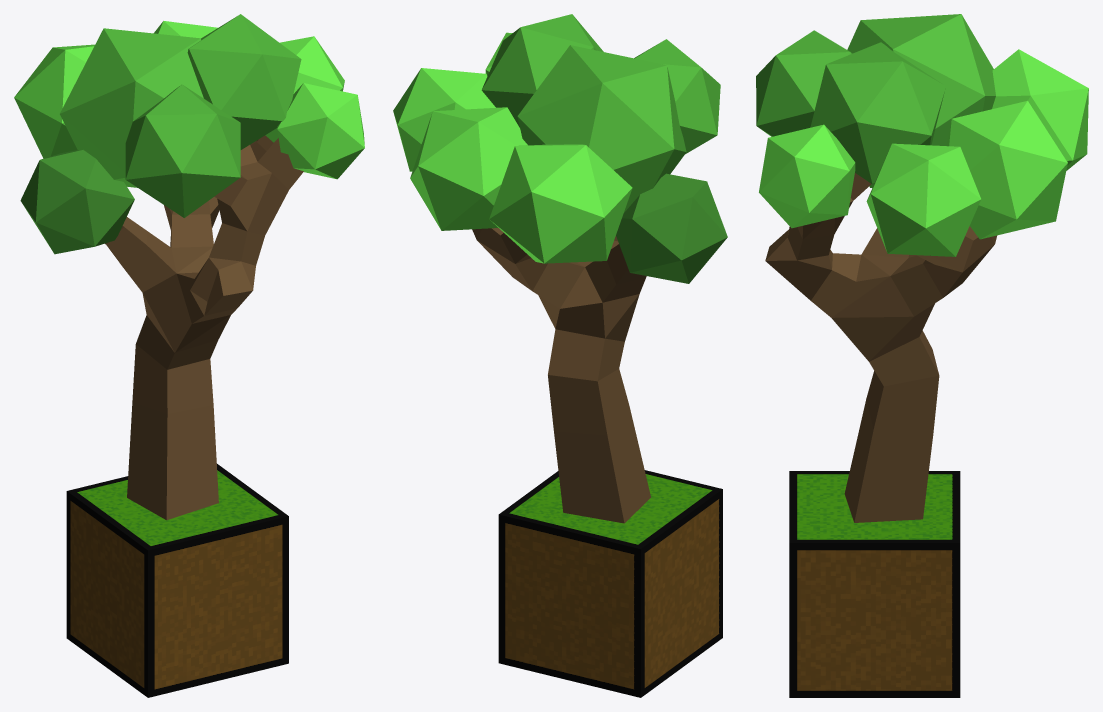
Rendered from TreeMedium2.glb.
3 renders of one model, left to right at view 1: azimuth 30°, elevation 25°; view 2: azimuth 150°, elevation 25°; view 3: azimuth 270°, elevation 25°, orthographic. The views are drawn at different scales.
Parts seen in each view (by area): view 1: Grass_v2Baked, Tree medium, Icosphere.029, Icosphere.026, Icosphere.023, Icosphere.027, Icosphere.021, Icosphere.022, Icosphere.024, Icosphere.025; view 2: Grass_v2Baked, Tree medium, Icosphere.029, Icosphere.022, Icosphere.025, Icosphere.027, Icosphere.023, Icosphere.024, Icosphere.026; view 3: Grass_v2Baked, Tree medium, Icosphere.023, Icosphere.025, Icosphere.024, Icosphere.029, Icosphere.021, Icosphere.022, Icosphere.026.
Part boxes in pixels (bbox=[...]): Grass_v2Baked: bbox=[66, 463, 288, 697]; Tree medium: bbox=[105, 135, 303, 520]; Icosphere.029: bbox=[60, 28, 203, 187]; Icosphere.026: bbox=[125, 84, 240, 217]; Icosphere.023: bbox=[187, 14, 301, 149]; Icosphere.027: bbox=[20, 150, 134, 254]; Icosphere.021: bbox=[277, 83, 364, 179]; Icosphere.022: bbox=[14, 44, 94, 158]; Icosphere.024: bbox=[265, 36, 344, 142]; Icosphere.025: bbox=[154, 21, 217, 38]; Grass_v2Baked: bbox=[498, 470, 722, 697]; Tree medium: bbox=[472, 228, 650, 523]; Icosphere.029: bbox=[517, 45, 686, 212]; Icosphere.022: bbox=[489, 144, 632, 263]; Icosphere.025: bbox=[410, 107, 527, 230]; Icosphere.027: bbox=[616, 173, 727, 283]; Icosphere.023: bbox=[481, 14, 603, 127]; Icosphere.024: bbox=[393, 68, 495, 171]; Icosphere.026: bbox=[634, 39, 720, 153]; Grass_v2Baked: bbox=[789, 471, 960, 697]; Tree medium: bbox=[765, 173, 997, 522]; Icosphere.023: bbox=[810, 42, 945, 184]; Icosphere.025: bbox=[946, 100, 1067, 239]; Icosphere.024: bbox=[866, 143, 981, 256]; Icosphere.029: bbox=[847, 14, 995, 187]; Icosphere.021: bbox=[759, 124, 855, 228]; Icosphere.022: bbox=[992, 49, 1088, 170]; Icosphere.026: bbox=[756, 30, 852, 136].
Bounding box in the file's own units: 2.23 × 4.05 × 1.91.
5 materials, 1 textured.
